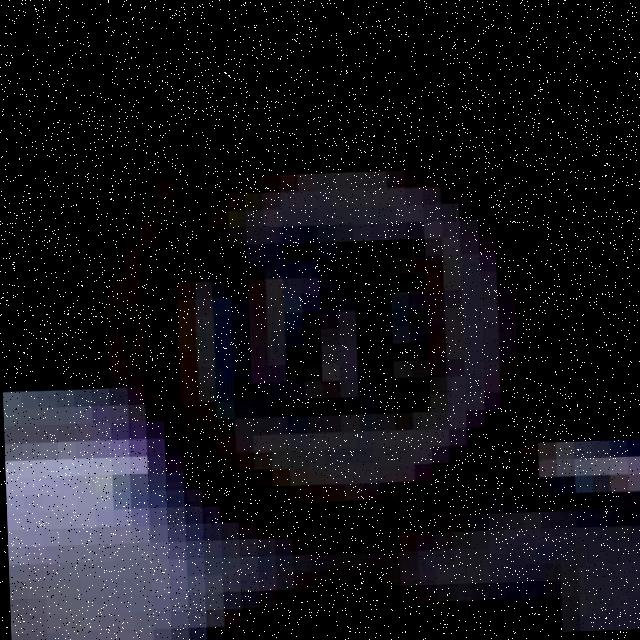Ograniczenie predkosci do 120: (131, 103, 556, 548)
